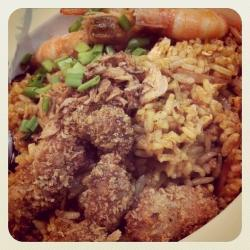rice: (137, 45, 238, 185)
